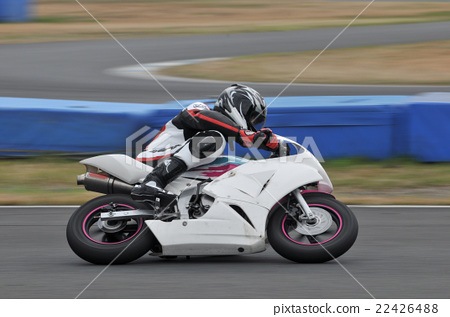helmet: (207, 79, 278, 142)
